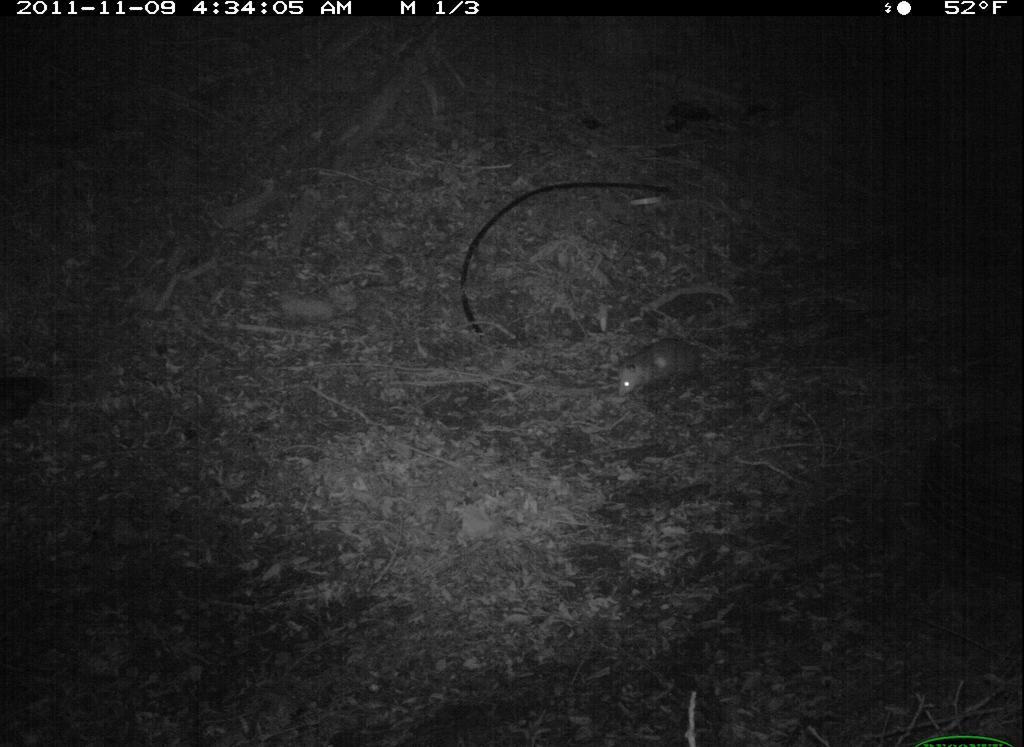opossum: (605, 327, 715, 406)
